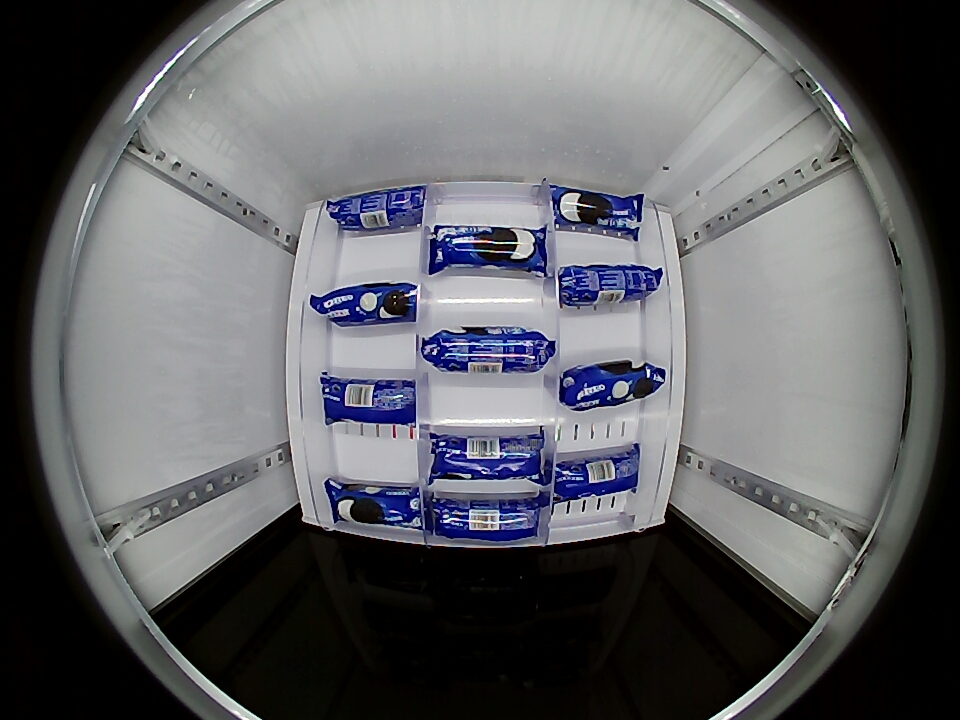aoliao: (422, 317, 560, 379), (428, 223, 547, 273), (428, 432, 547, 482), (325, 481, 427, 538), (556, 360, 664, 413), (327, 183, 424, 237), (431, 497, 541, 542), (319, 375, 414, 426), (552, 449, 641, 502), (549, 184, 638, 236), (553, 265, 657, 307), (319, 284, 418, 328)
